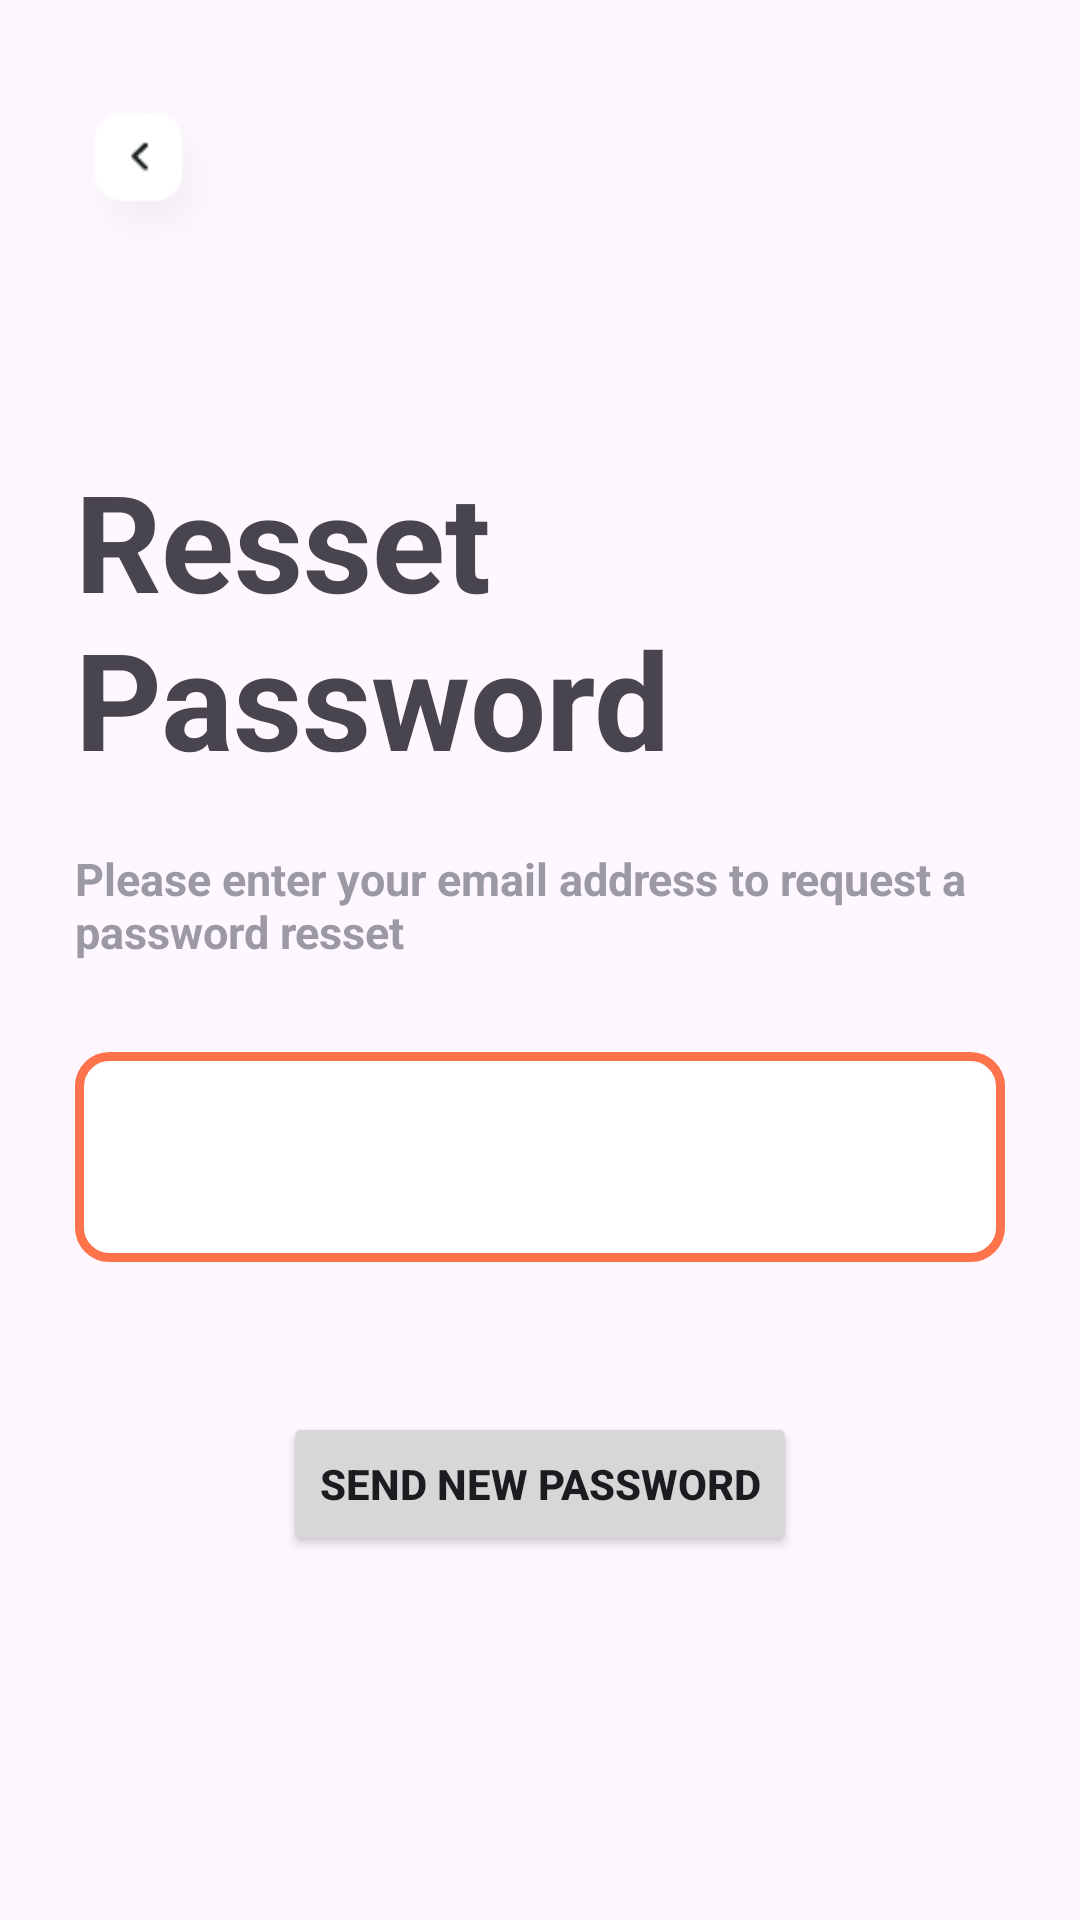

Icon click points for this 1080*1920 phone screenshot, format [x,y]:
backbtn: [140,156]
